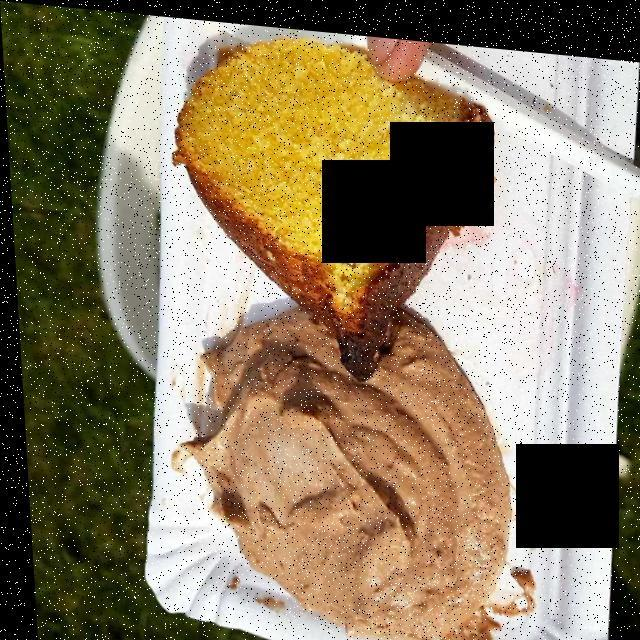biscuits: (175, 33, 488, 339)
chocolate-mousse: (179, 304, 509, 640)
